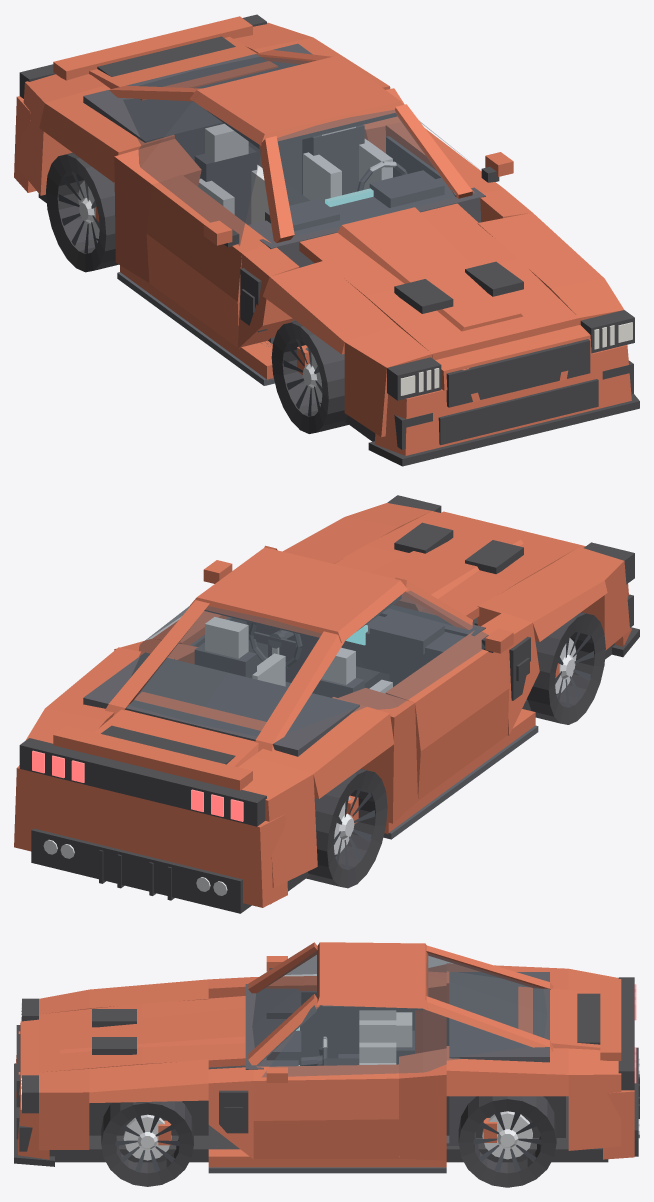
File: MuscleFastback_01.fbx
The picture shows the model from 3 angles, top to bottom: view 1: azimuth 30°, elevation 25°; view 2: azimuth 150°, elevation 25°; view 3: azimuth 270°, elevation 25°; orthographic projection. The views are drawn at different scales.
Parts seen in each view (by area): view 1: mod_hood_0_stock, mod_bumper_front_0_stock, roof_cabin, fender_front_right, glass_windshield, fender_rear_right, door_right, glass_side_right, interior_cabin, fender_front_left, wheel-back-right, wheel-front-right (+15 smaller); view 2: mod_bumper_rear_0_stock, roof_cabin, fender_rear_right, glass_rear, mod_hood_0_stock, glass_side_right, interior_cabin, door_right, fender_front_right, mod_taillight_0_stock, engine_decklid, wheel-back-right (+17 smaller); view 3: fender_rear_left, door_left, fender_front_left, mod_hood_0_stock, roof_cabin, glass_side_left, interior_cabin, wheel-back-left, glass_rear, wheel-front-left, fender_front_right, mod_skirts_0_stock_left (+17 smaller).
Boxes of the visible parts, x1=… form: mod_hood_0_stock: x1=299, y1=203, x2=579, y2=359; mod_bumper_front_0_stock: x1=368, y1=325, x2=639, y2=466; roof_cabin: x1=109, y1=50, x2=472, y2=242; fender_front_right: x1=237, y1=245, x2=432, y2=437; glass_windshield: x1=277, y1=110, x2=454, y2=235; fender_rear_right: x1=19, y1=74, x2=201, y2=282; door_right: x1=146, y1=175, x2=270, y2=347; glass_side_right: x1=123, y1=99, x2=261, y2=245; interior_cabin: x1=83, y1=43, x2=485, y2=342; fender_front_left: x1=477, y1=189, x2=628, y2=358; wheel-back-right: x1=46, y1=152, x2=118, y2=272; wheel-front-right: x1=271, y1=321, x2=348, y2=433; mod_bumper_rear_0_stock: x1=14, y1=765, x2=287, y2=913; roof_cabin: x1=105, y1=545, x2=472, y2=751; fender_rear_right: x1=238, y1=688, x2=417, y2=887; glass_rear: x1=130, y1=606, x2=321, y2=736; mod_hood_0_stock: x1=334, y1=511, x2=578, y2=619; glass_side_right: x1=287, y1=591, x2=487, y2=732; interior_cabin: x1=83, y1=605, x2=485, y2=756; door_right: x1=385, y1=630, x2=509, y2=800; fender_front_right: x1=474, y1=547, x2=629, y2=735; mod_taillight_0_stock: x1=19, y1=738, x2=266, y2=826; engine_decklid: x1=75, y1=692, x2=266, y2=785; wheel-back-right: x1=306, y1=769, x2=387, y2=888; fender_rear_left: x1=399, y1=1046, x2=621, y2=1160; door_left: x1=253, y1=1064, x2=398, y2=1158; fender_front_left: x1=39, y1=1059, x2=253, y2=1159; mod_hood_0_stock: x1=39, y1=996, x2=245, y2=1072; roof_cabin: x1=248, y1=942, x2=553, y2=1065; glass_side_left: x1=262, y1=1005, x2=526, y2=1076; interior_cabin: x1=245, y1=972, x2=549, y2=1145; wheel-back-left: x1=458, y1=1096, x2=556, y2=1187; glass_rear: x1=427, y1=952, x2=546, y2=1037; wheel-front-left: x1=101, y1=1101, x2=193, y2=1186; fender_front_right: x1=39, y1=977, x2=253, y2=1014; mod_skirts_0_stock_left: x1=208, y1=1149, x2=446, y2=1173.
Size of the model in its own units: 2.1 by 1.36 by 4.73.
